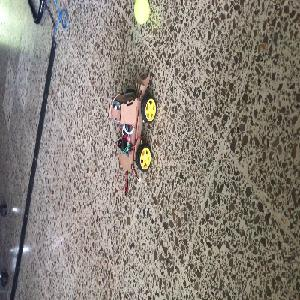Ball: (134, 0, 149, 23)
Robot: (107, 70, 157, 173)
